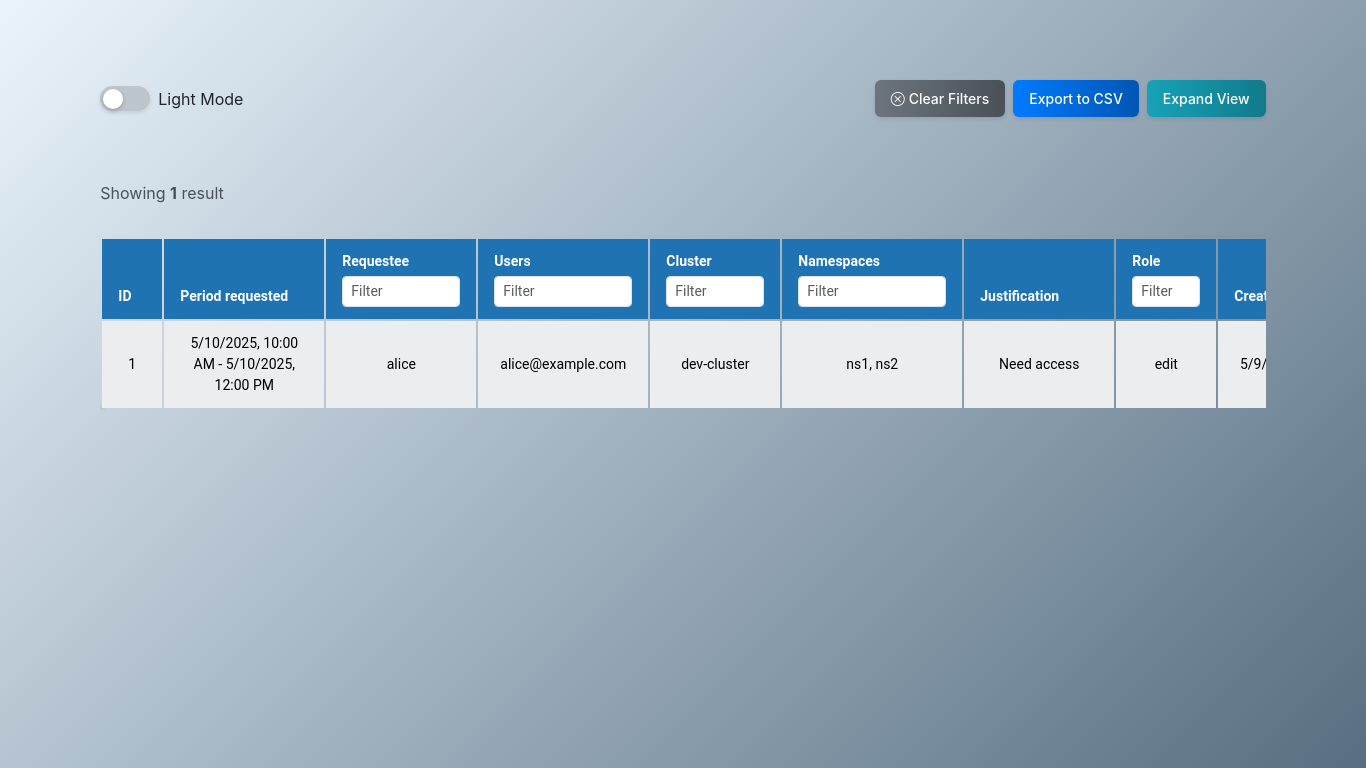
RequestTable › renders pending requests table and filters
Expected: the text "alice" is shown, left=326, top=321, right=476, bottom=408
Expected: the text "dev-cluster" is shown, left=650, top=321, right=780, bottom=408
# Filter by username (first filter input is for username)
Type "bob" into the field with placeholder "Filter" below "Requestee" at (401, 292), box left=342, top=276, right=460, bottom=307
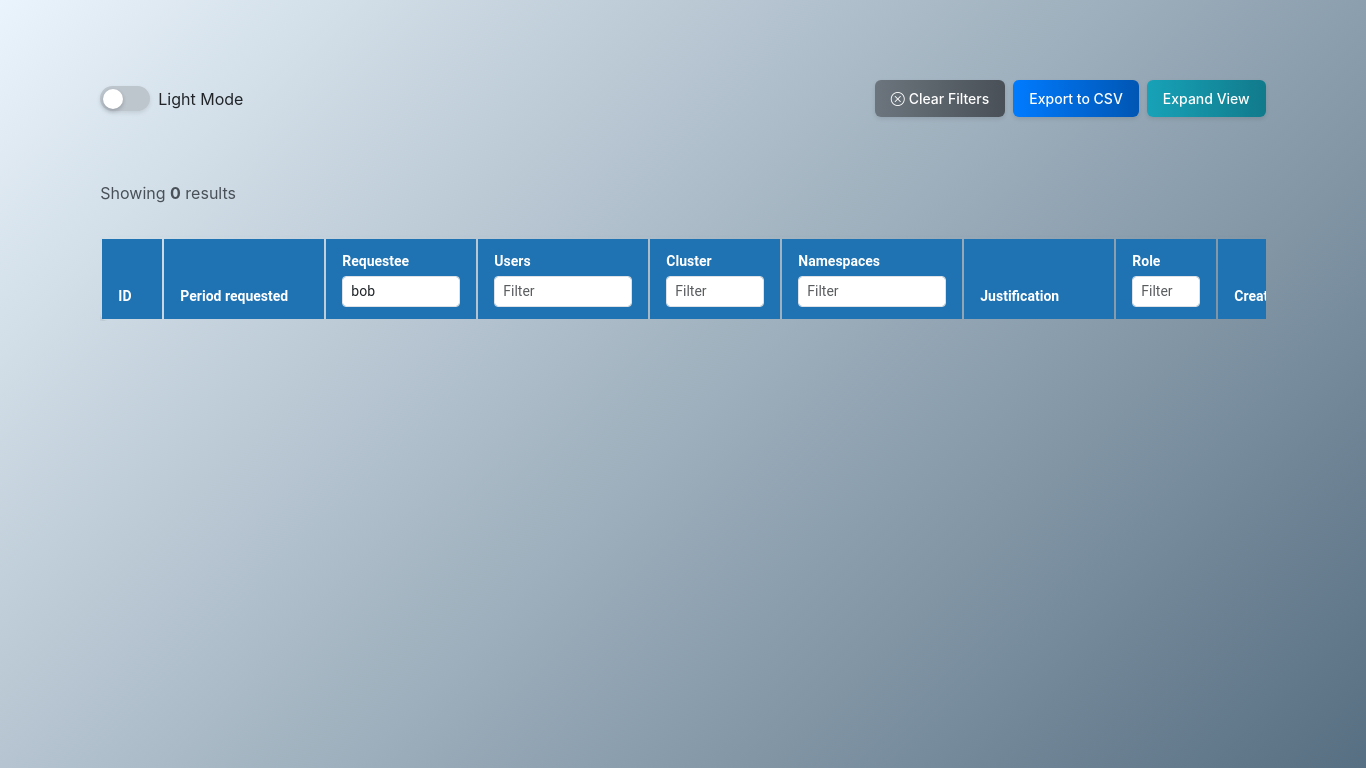
Now the text "alice" is gone
